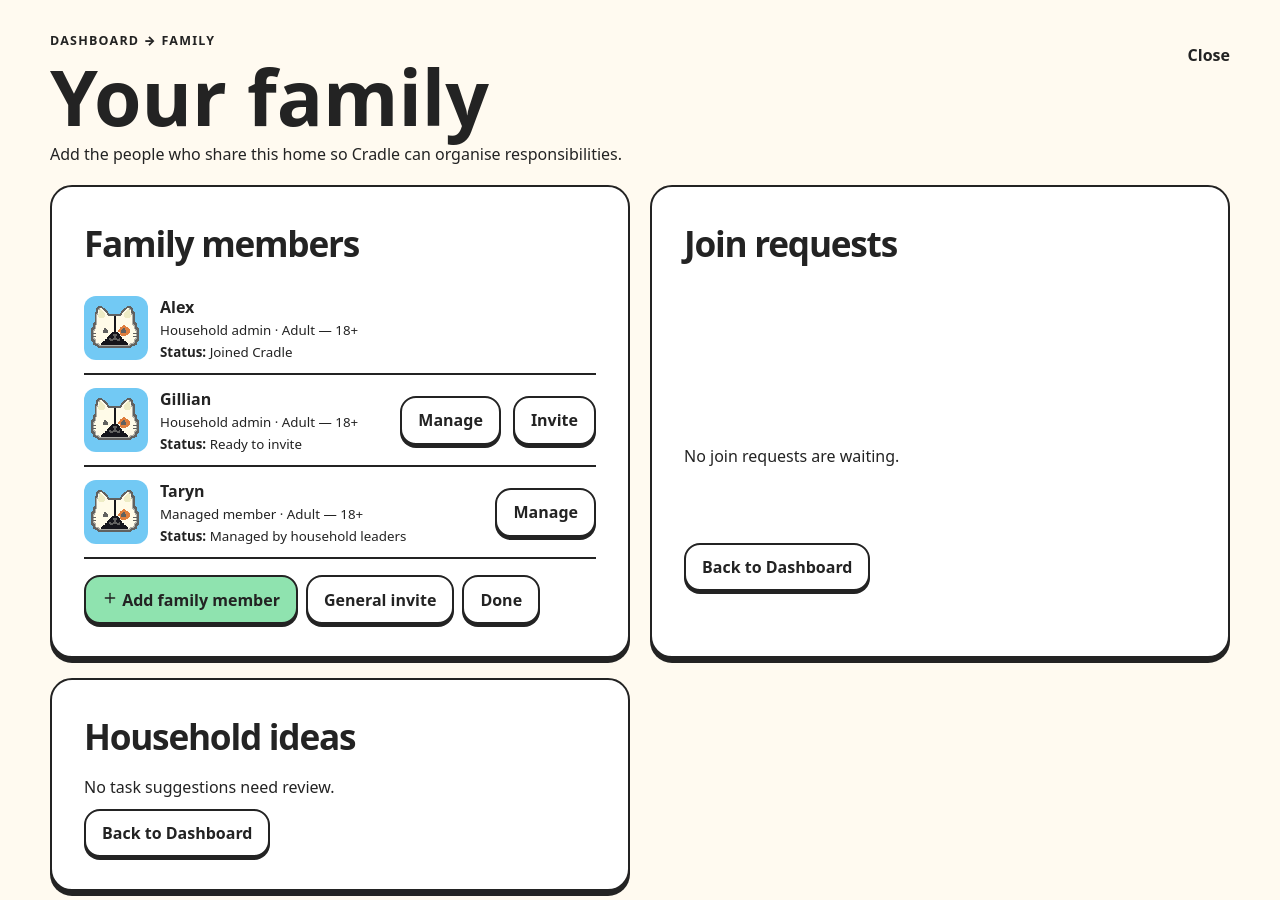
Scenario: family and personal user journeys › never leaves invitation creation on a token-only state
Click the button "Invite".
click(554, 420)  # box 513,396 -> 596,445
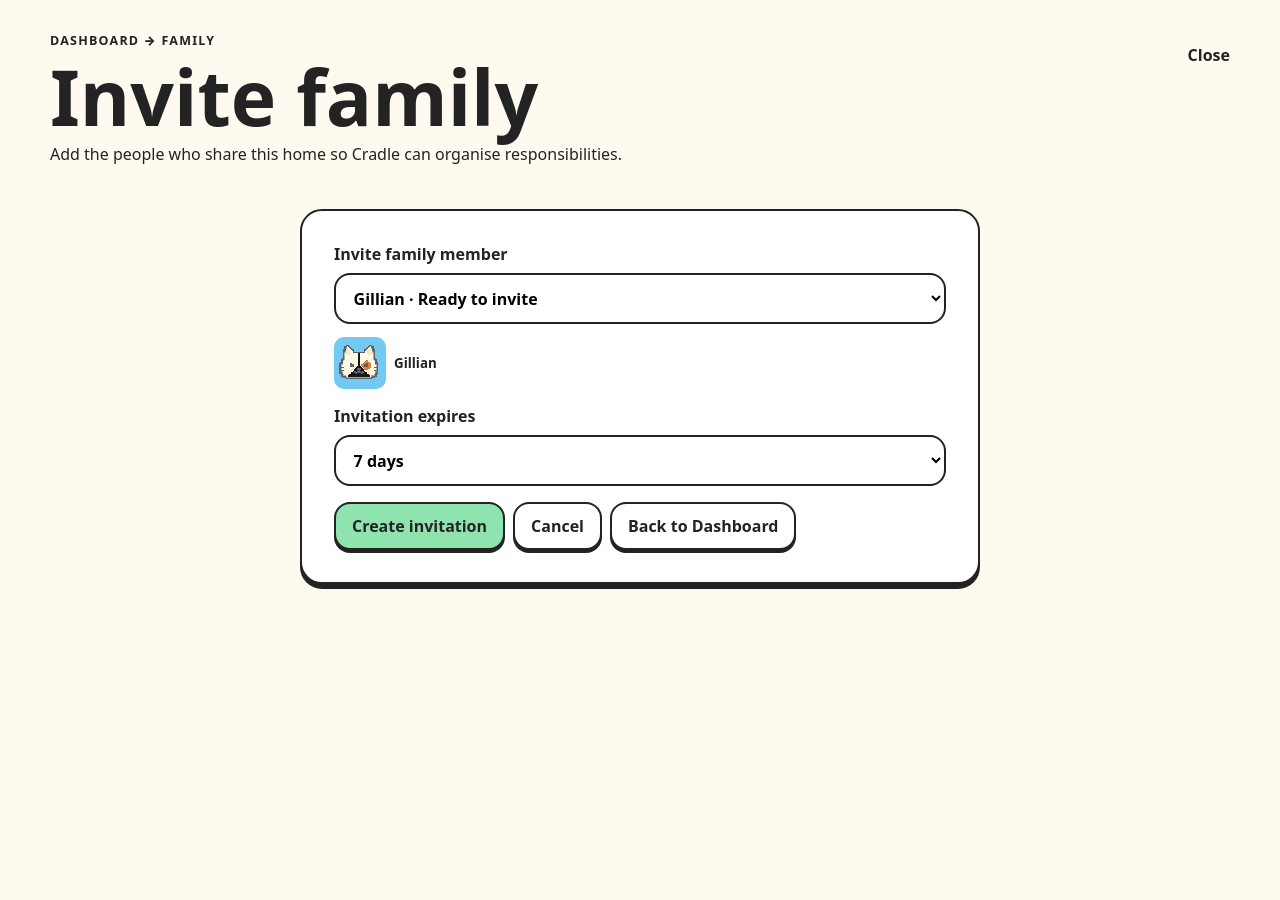
Click the button "Create invitation".
click(420, 526)  # box 334,502 -> 505,550
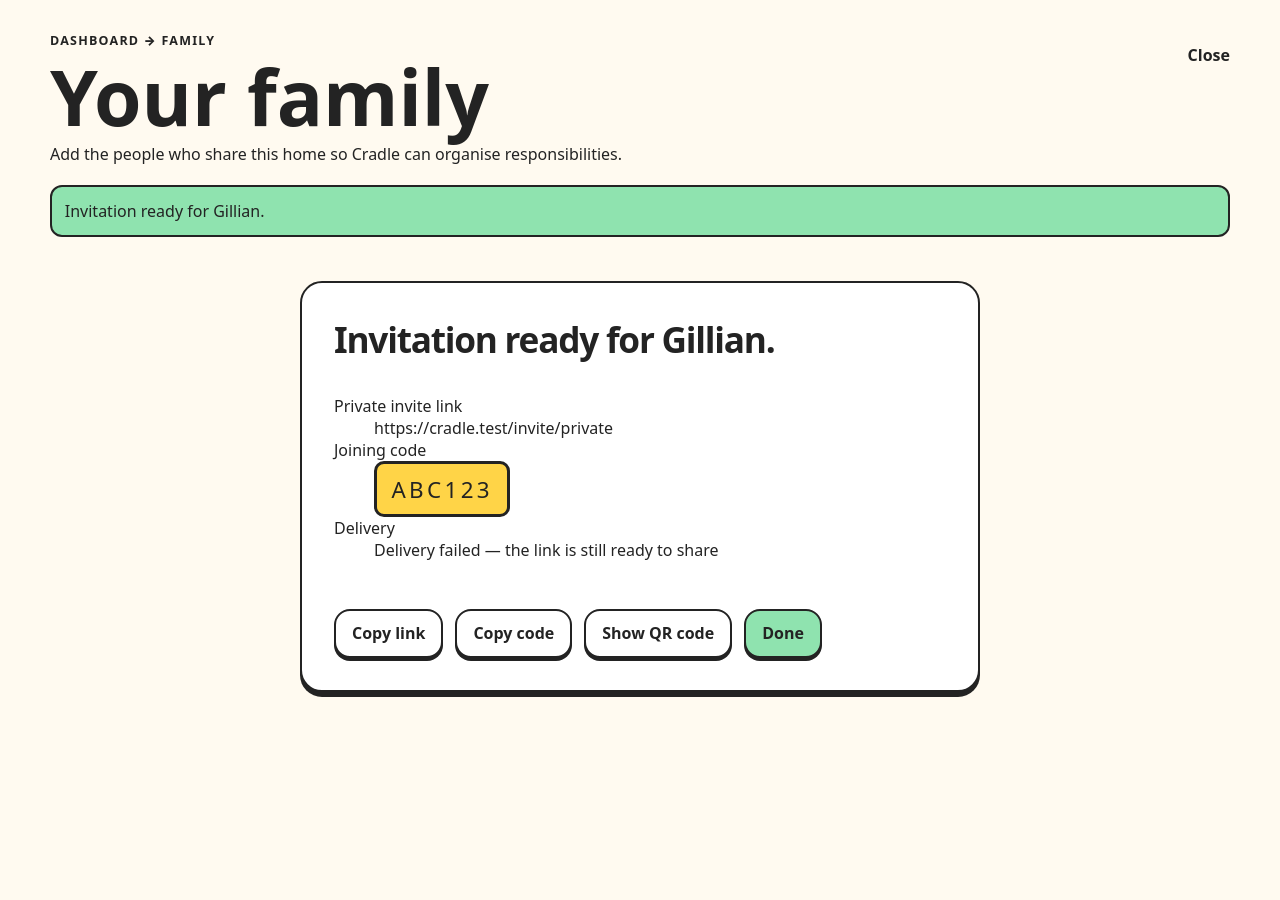
Now the button "Copy link" is shown, box 334,609 -> 443,658
Now the button "Copy code" is shown, box 455,609 -> 572,658
Now the button "Show QR code" is shown, box 584,609 -> 732,658
